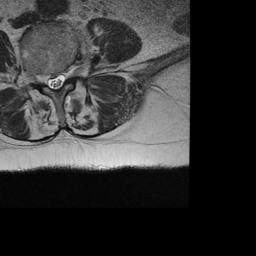CCS_stenosis: (52, 65, 60, 97)
LFS_normal: (67, 58, 75, 86)
LLS_normal: (60, 64, 67, 90)
RFS_normal: (37, 65, 45, 91)
RLS_normal: (45, 67, 52, 92)
